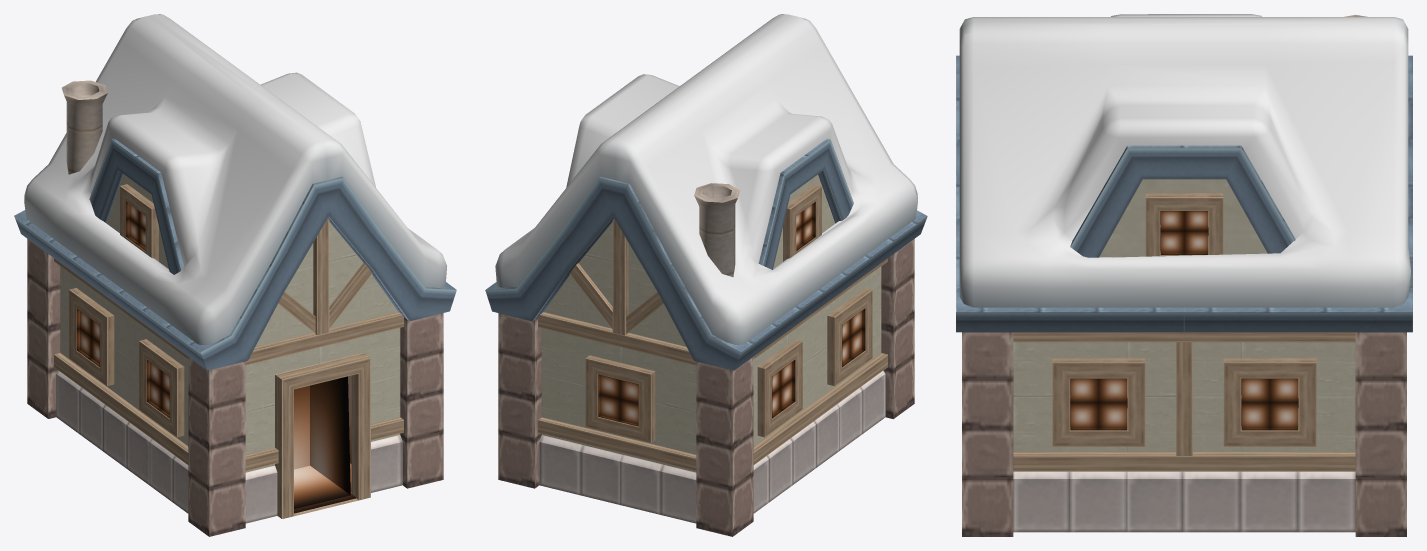
File: Private Dwelling 2 - S - Snow.fbx
3 views of the same model, side by side, from view 1: azimuth 30°, elevation 25°; view 2: azimuth 150°, elevation 25°; view 3: azimuth 270°, elevation 25° (orthographic). The views are drawn at different scales.
Visible parts, largest first — view 1: bd_011_snow, lightobj2; view 2: bd_011_snow, lightobj2; view 3: bd_011_snow, lightobj2.
Part boxes in pixels (x1,y1,x2,y2): bd_011_snow: (14, 14, 456, 536); lightobj2: (76, 201, 356, 513); bd_011_snow: (485, 14, 927, 536); lightobj2: (598, 202, 865, 426); bd_011_snow: (956, 14, 1412, 536); lightobj2: (1070, 211, 1298, 430).
Bounding box in the file's own units: 3.17 × 4.3 × 4.
